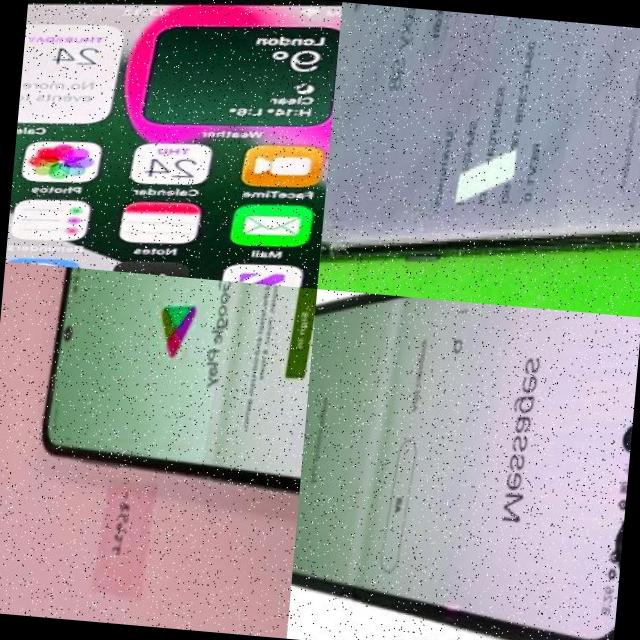dead pixel: (596, 502, 625, 587)
screen crack: (391, 7, 570, 238), (316, 190, 364, 285)
